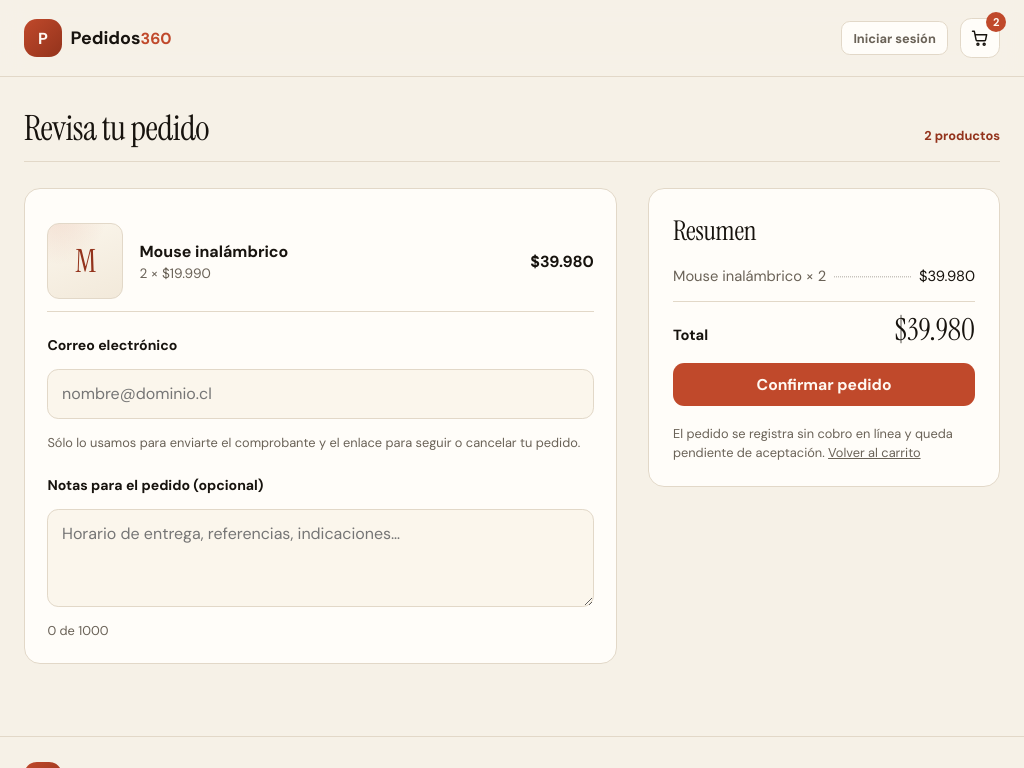
Test case: CheckoutPage › pide el correo antes de enviar
Click the button "Confirmar pedido" at (824, 384), box 673,363 -> 975,406
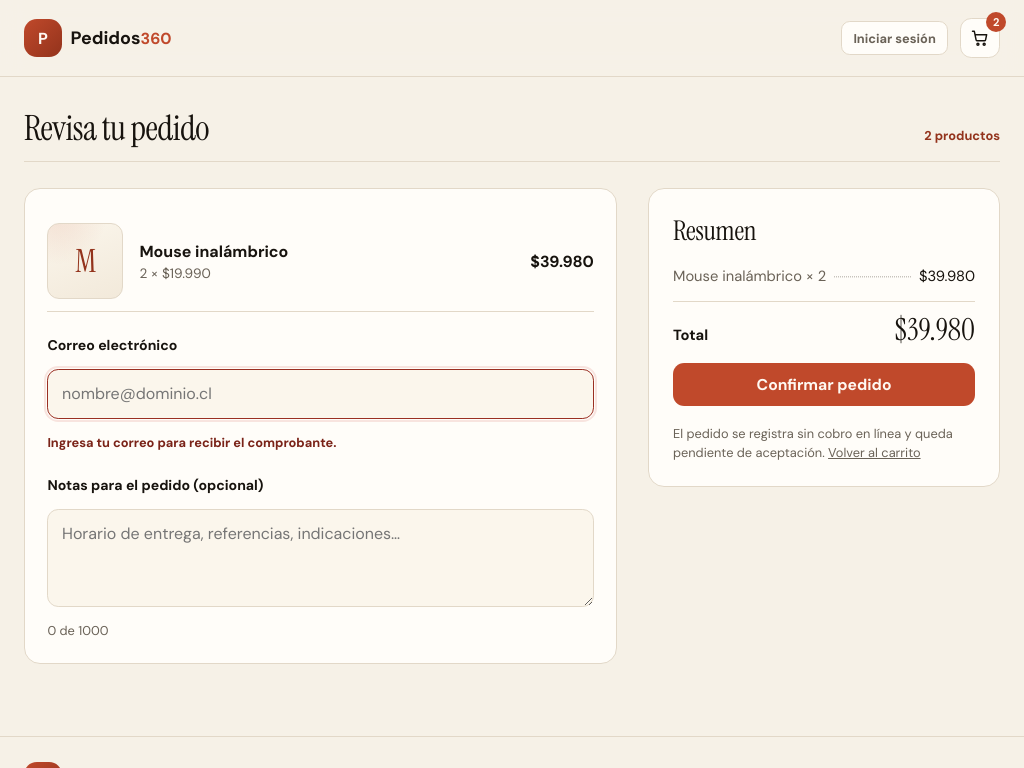
Now the text "Ingresa tu correo para recibir el comprobante." is shown, box 47,434 -> 336,451
